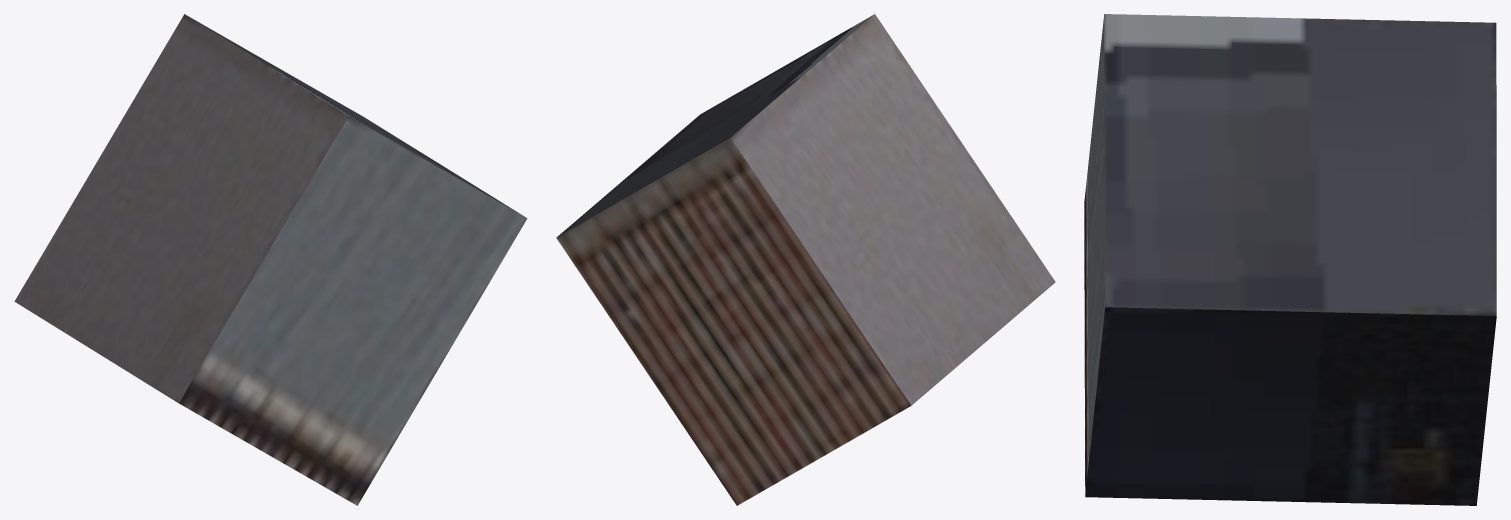
The picture shows the model from 3 angles, left to right: view 1: azimuth 30°, elevation 25°; view 2: azimuth 150°, elevation 25°; view 3: azimuth 270°, elevation 25°; orthographic projection. The views are drawn at different scales.
Visible parts, largest first — view 1: BAG_0599100100019950 (×2); view 2: BAG_0599100100019950 (×2); view 3: BAG_0599100100019950 (×2).
Boxes of the visible parts, left/top/right/bottom form: BAG_0599100100019950 (×2): left=14, top=14, right=527, bottom=505; BAG_0599100100019950 (×2): left=556, top=14, right=1055, bottom=505; BAG_0599100100019950 (×2): left=1084, top=14, right=1496, bottom=505.
Size of the model in its own units: 3.37 by 3.49 by 2.63.
Materials: 2 (2 with a texture image).
